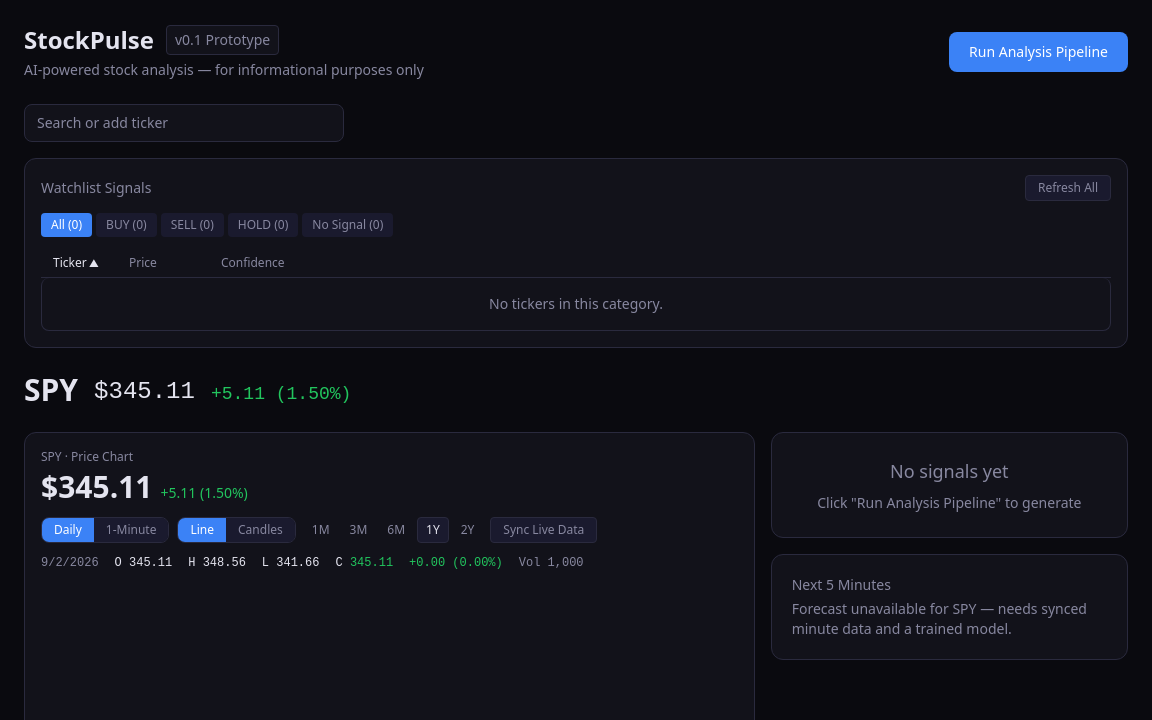
Dashboard › shows a status-coded error when the pipeline responds with a server error
This screenshot has width=1152, height=720.
Click the button "Run Analysis Pipeline" at {"x": 1039, "y": 52}, box [949,32,1128,72]
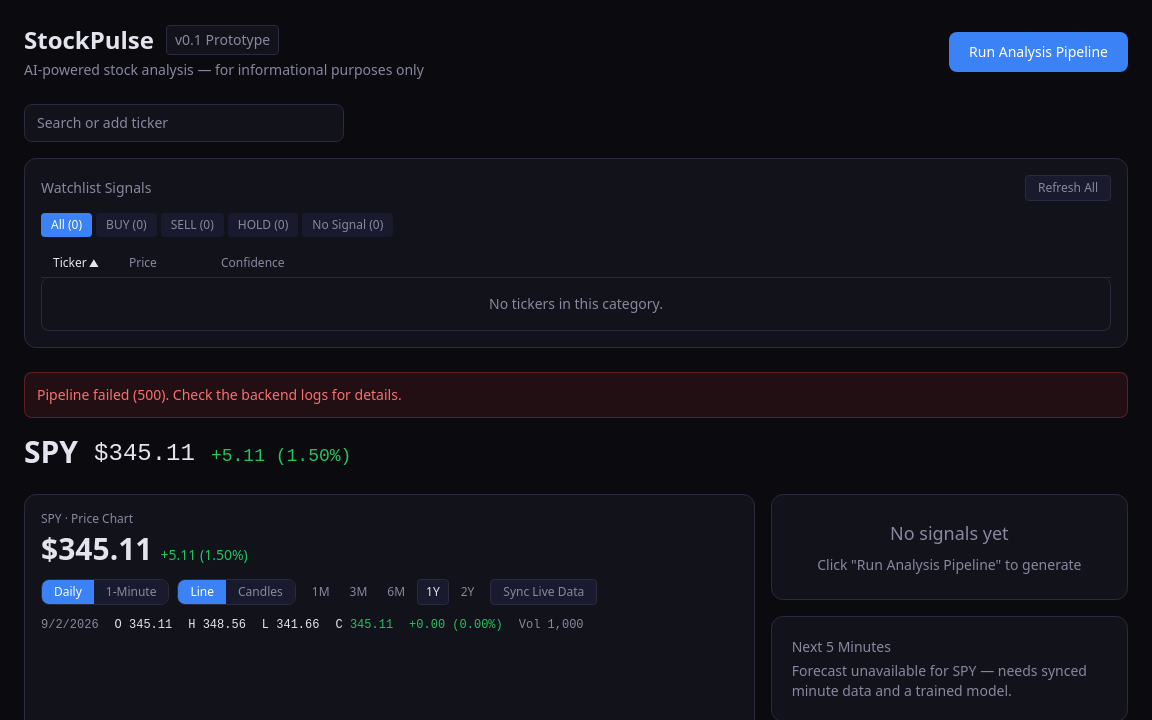
Expected: the text "Pipeline failed (500). Check the backend logs for details." is shown, [24,372,1128,418]
